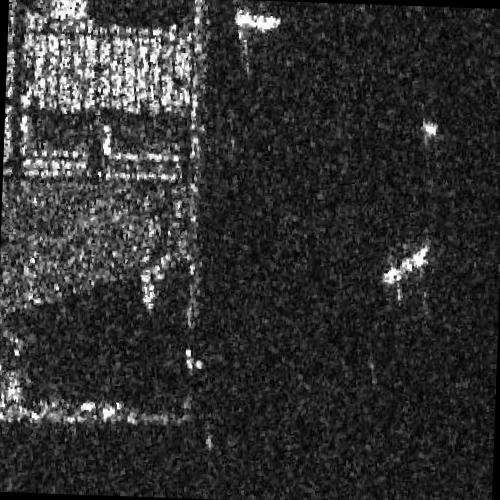ship: (381, 244, 430, 286), (233, 6, 282, 34), (420, 119, 438, 138)
